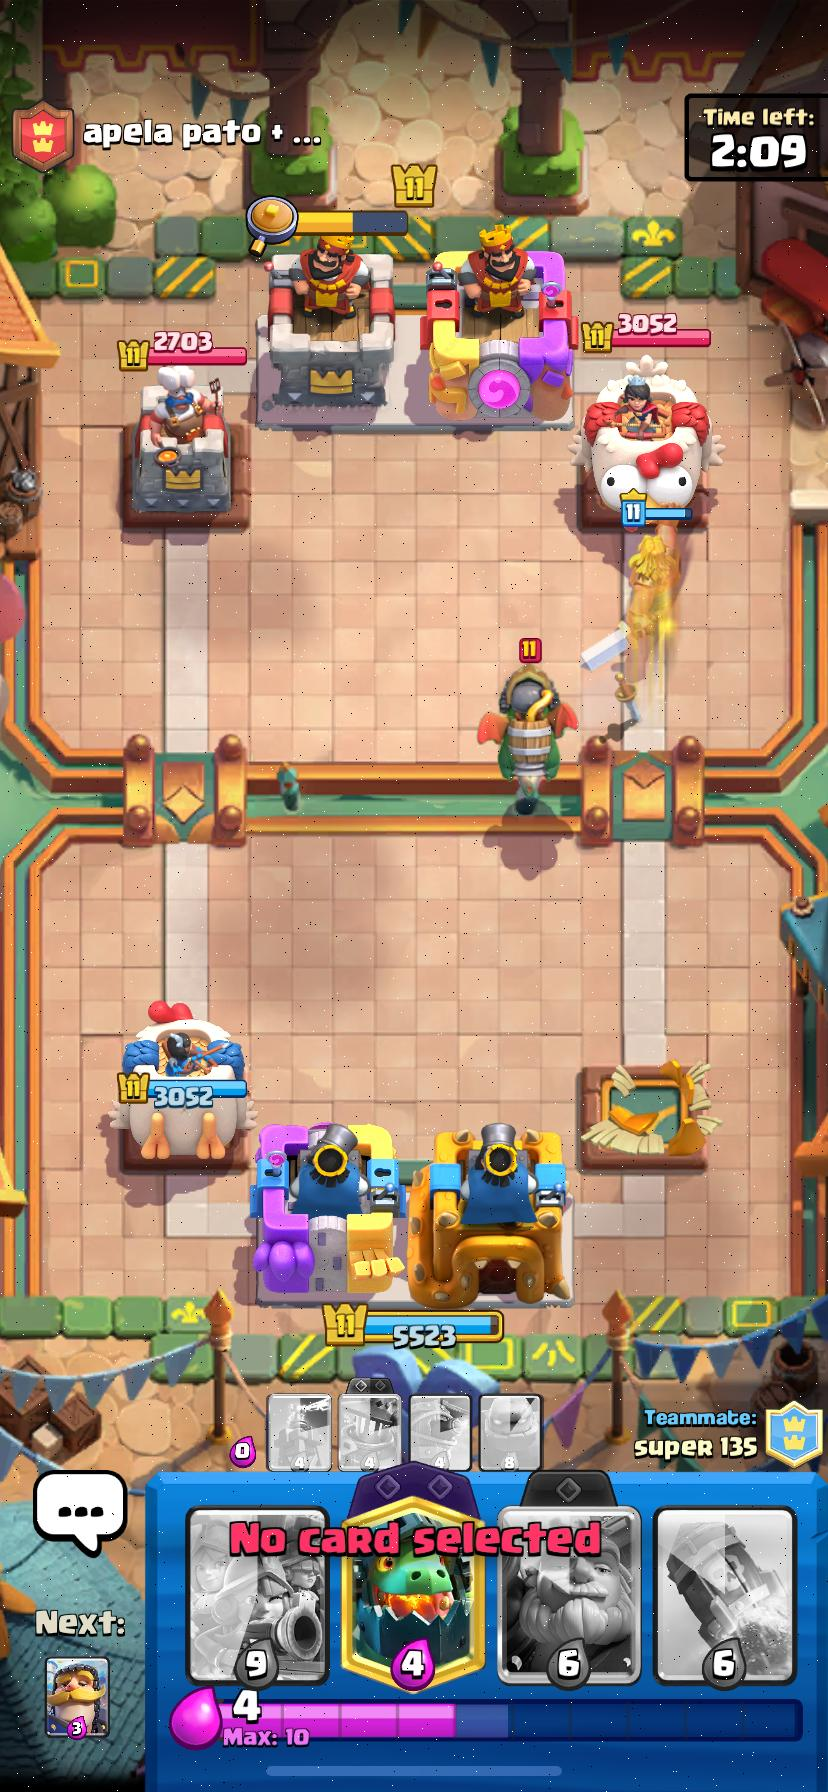EInfernoDrag: (479, 664, 577, 815)
EKingTower: (426, 245, 577, 424), (257, 244, 394, 424)
EnemyPanTower: (122, 367, 248, 524)
EnemyPrincessTower: (574, 356, 720, 524)
ORoyalKnight: (626, 530, 680, 642)
OwnKingTower: (407, 1123, 572, 1307), (252, 1123, 403, 1301)
OwnPrincessTower: (110, 1002, 255, 1160)
TowerDown: (580, 1060, 720, 1169)
